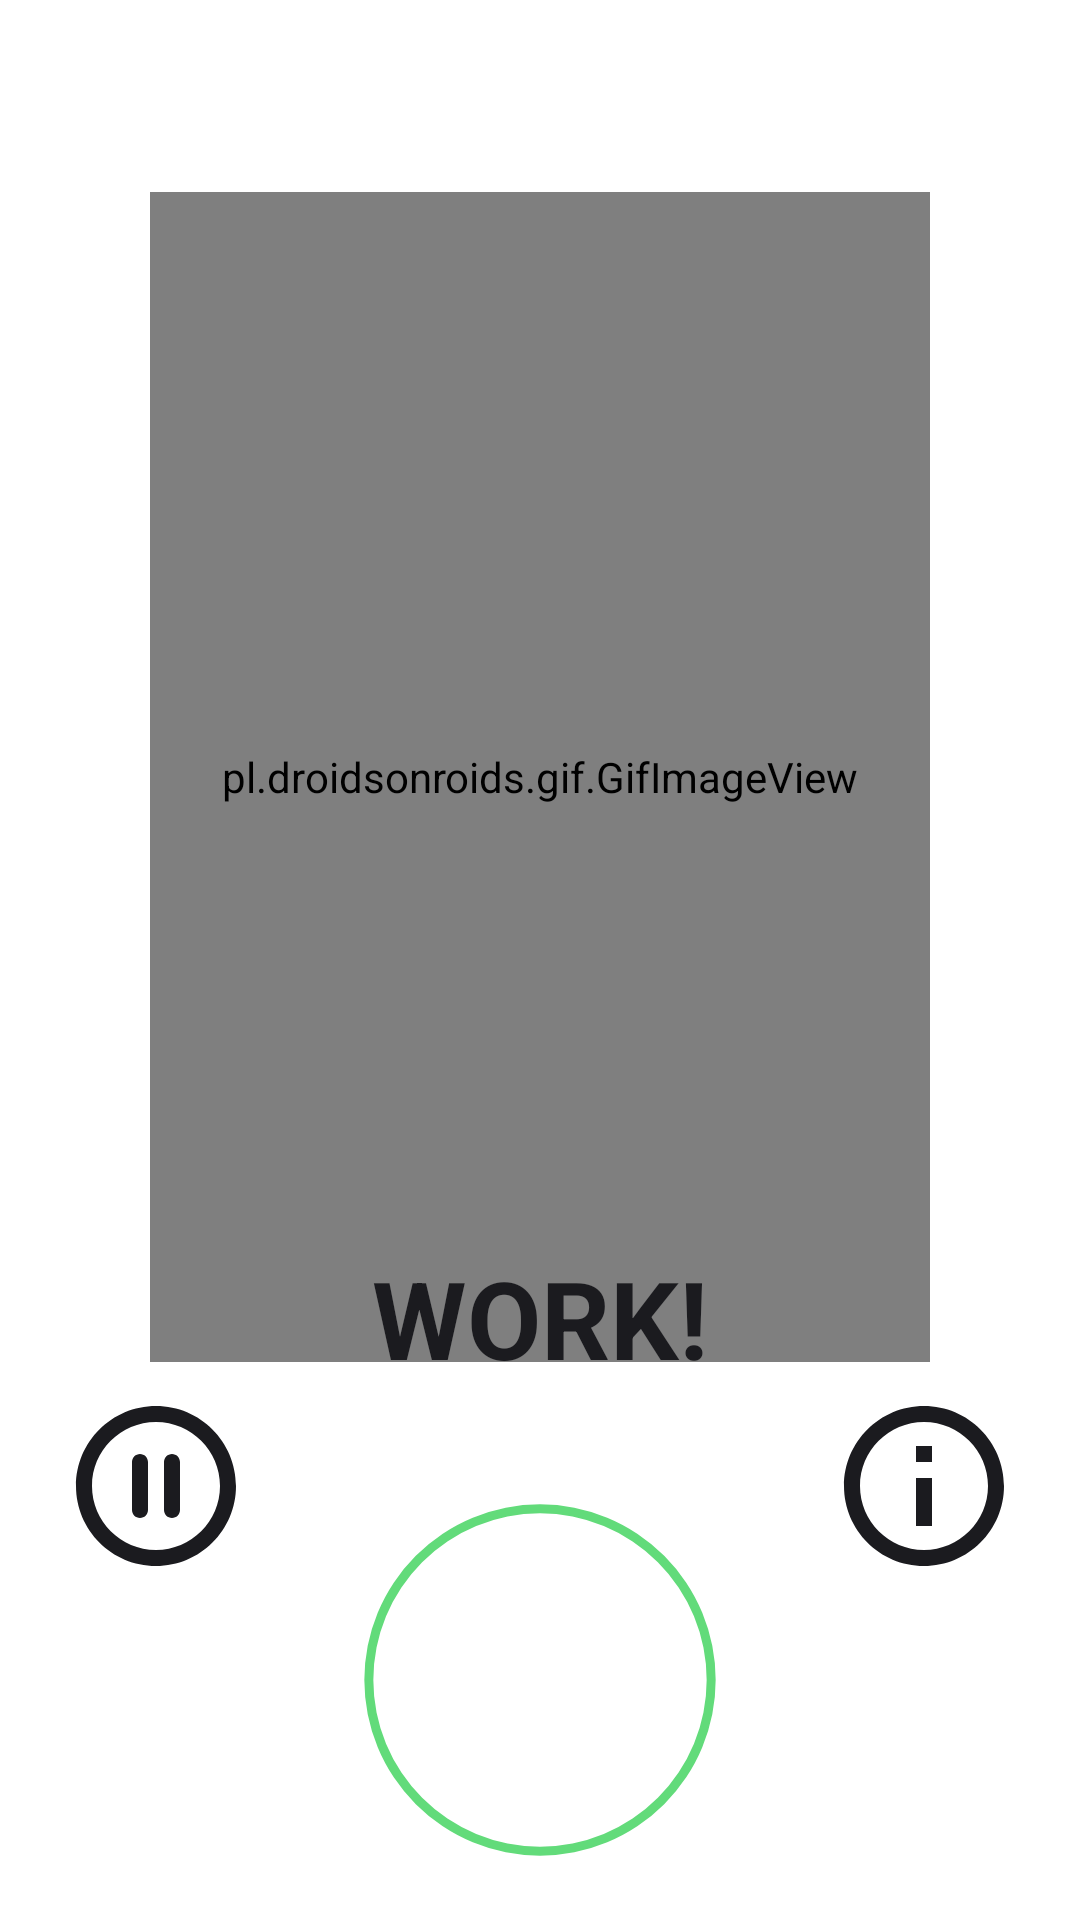

Where to tap for icons on this 1080x1920 app screen, as (x,y):
Exercise info icon: (924,1486)
Exercise pause icon: (156,1486)
